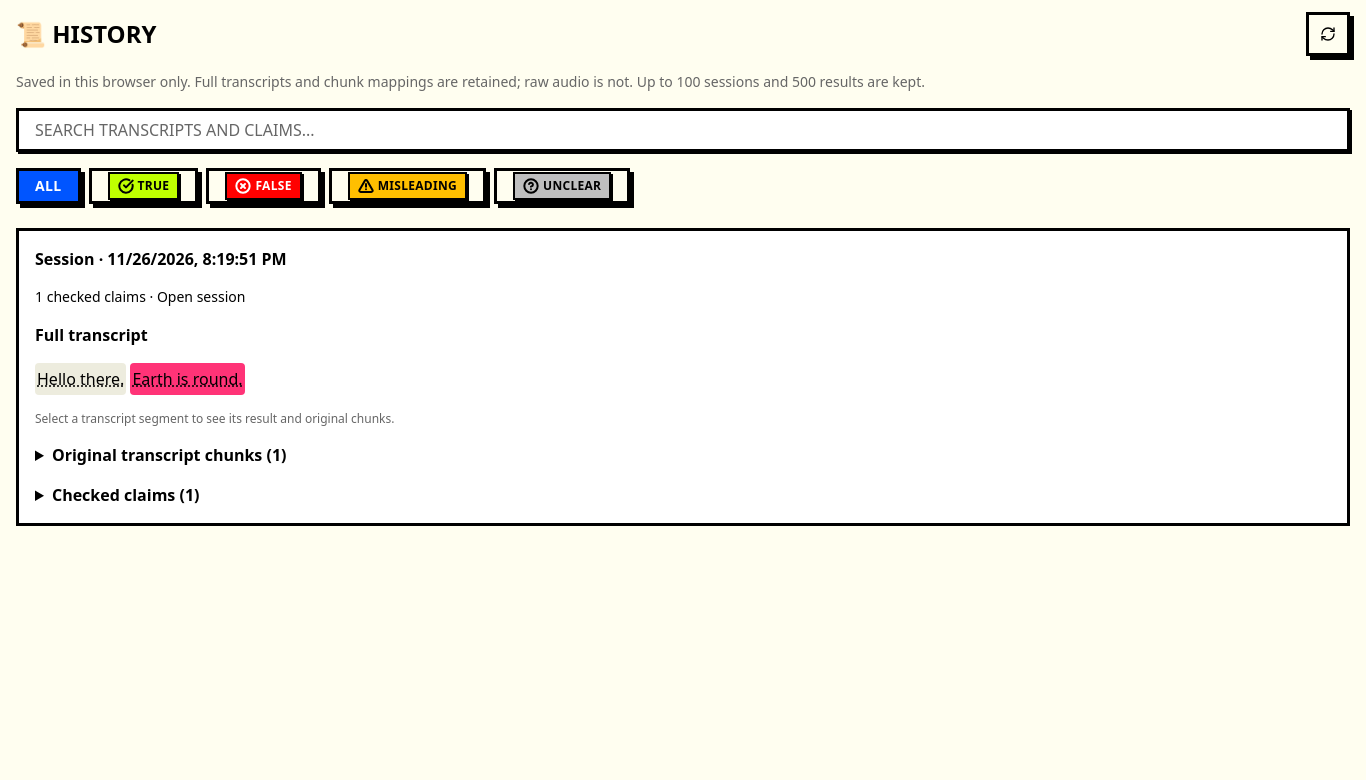
it: session history › shows nonclaims and opens mapped evidence with original chunks
Click the button with aria-label "Segment 14: Earth is round.": [187, 379] box 130,363 -> 244,395
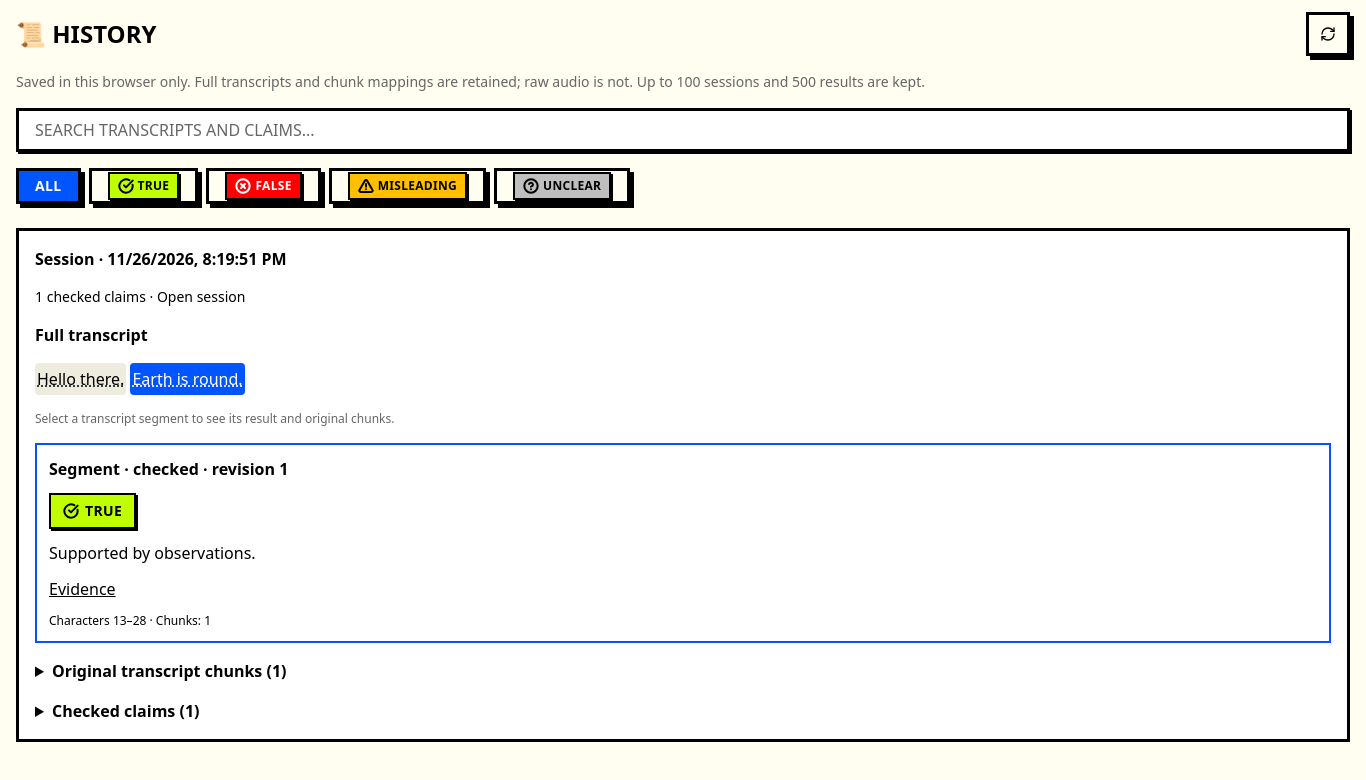
Expected: the heading "Original transcript chunks (1)" is shown, 52,660 -> 286,682
Now the text "Supported by observations." is shown, box 49,542 -> 256,564
Click the button with aria-label "Segment 1: Hello there.": [81, 379] box 35,363 -> 126,395
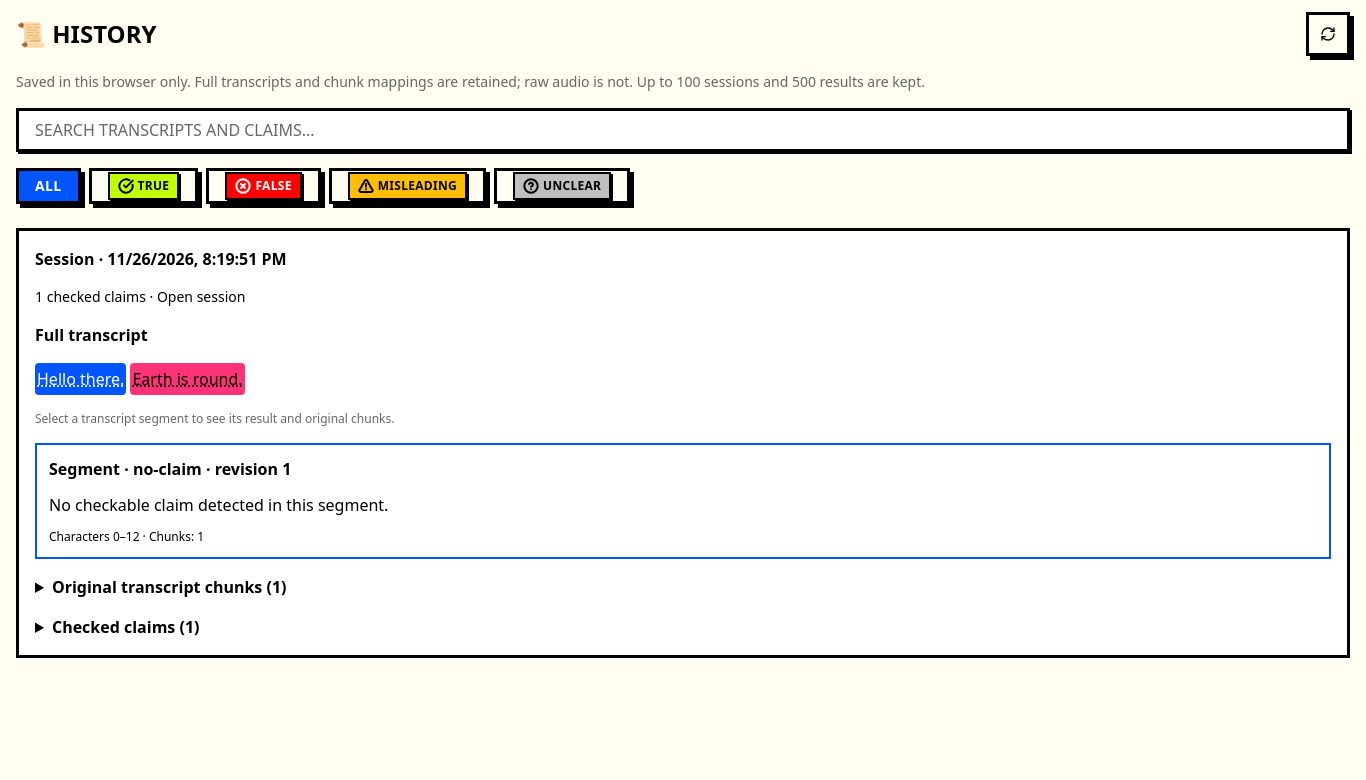
Now the text "No checkable claim detected in this segment." is shown, box 49,494 -> 388,516
In the field: [683, 130] box 16,108 -> 1350,152, type "Hello there"
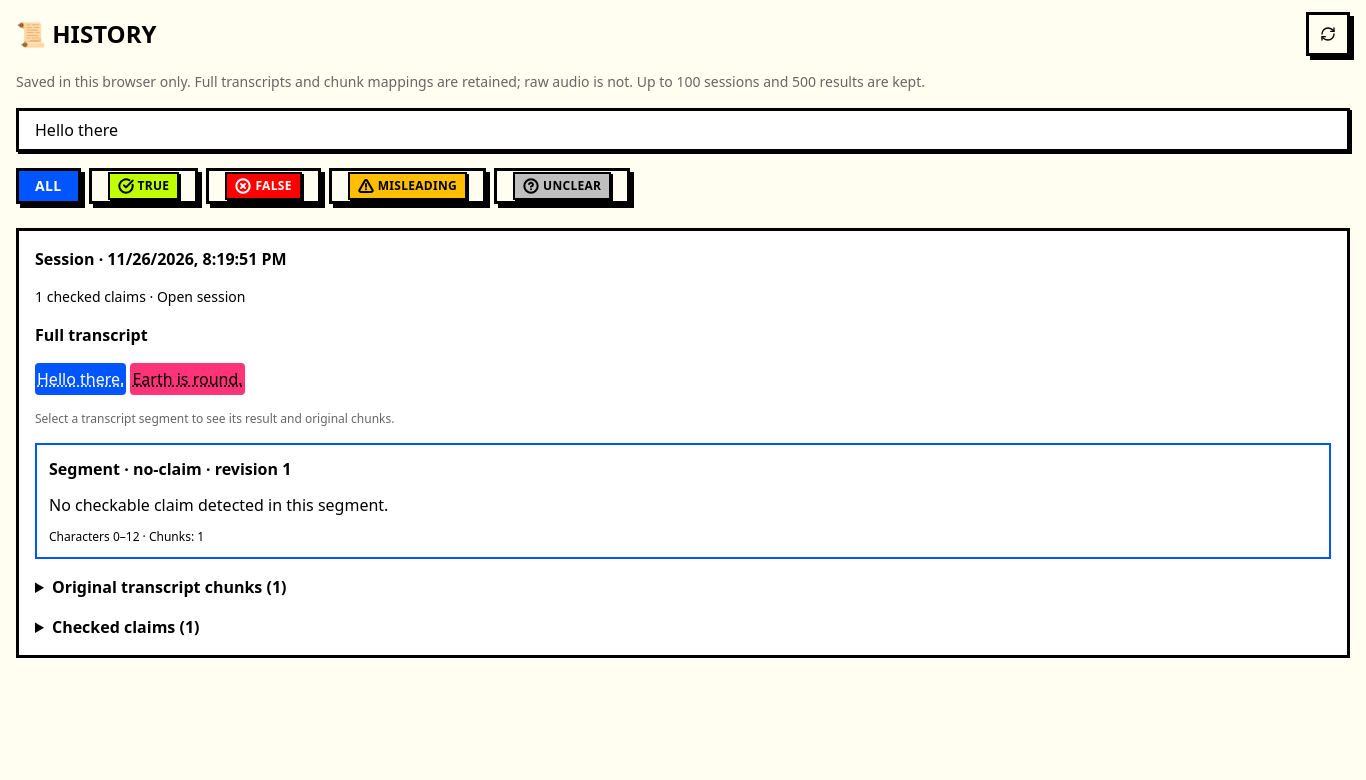
Expected: the heading "Full transcript" is shown, 35,324 -> 148,346
Replace the text in the field with "missing text": [683, 130] box 16,108 -> 1350,152
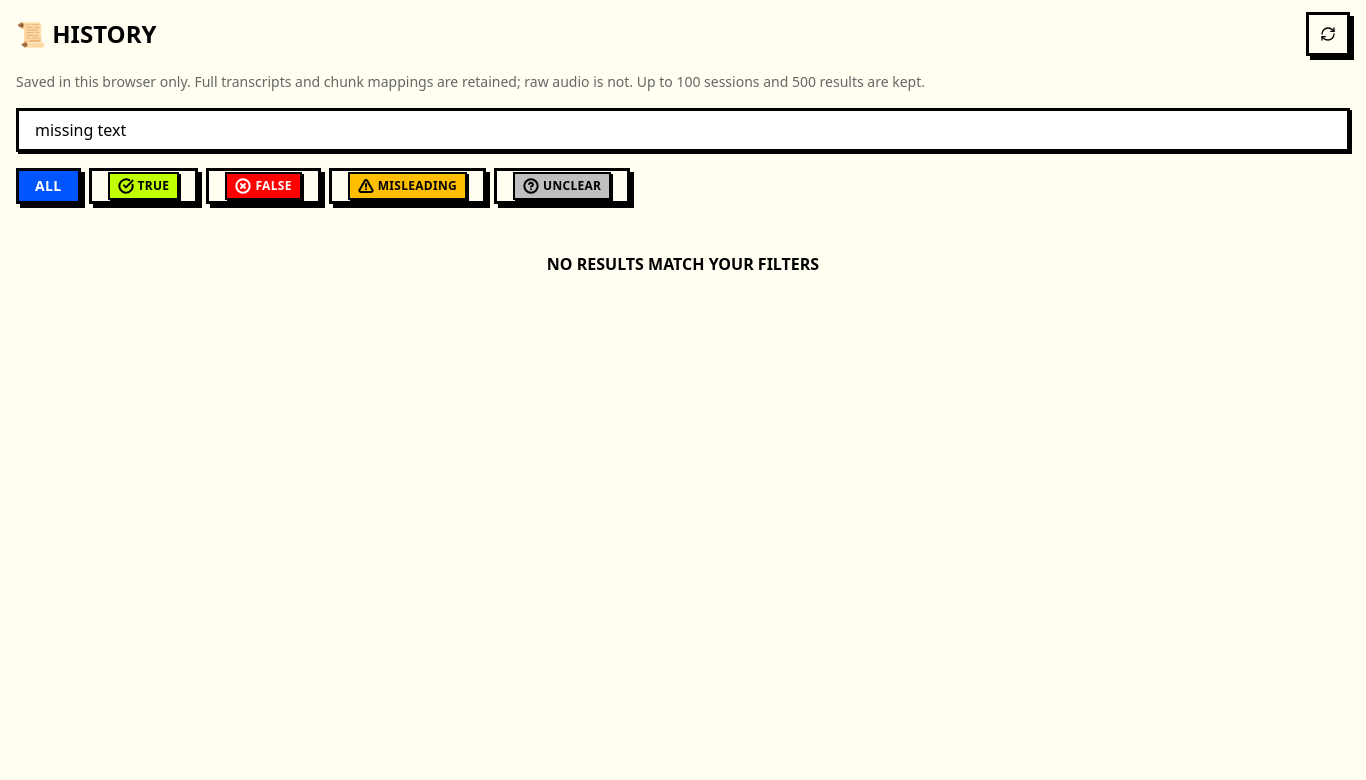
Now the text "NO RESULTS MATCH YOUR FILTERS" is shown, box 547,253 -> 819,275
